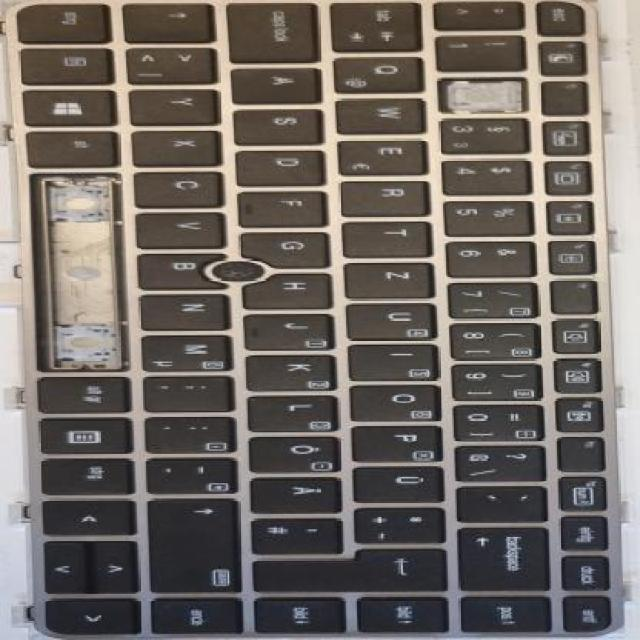Keyboard problems: (37, 178, 123, 368), (443, 80, 523, 112)
